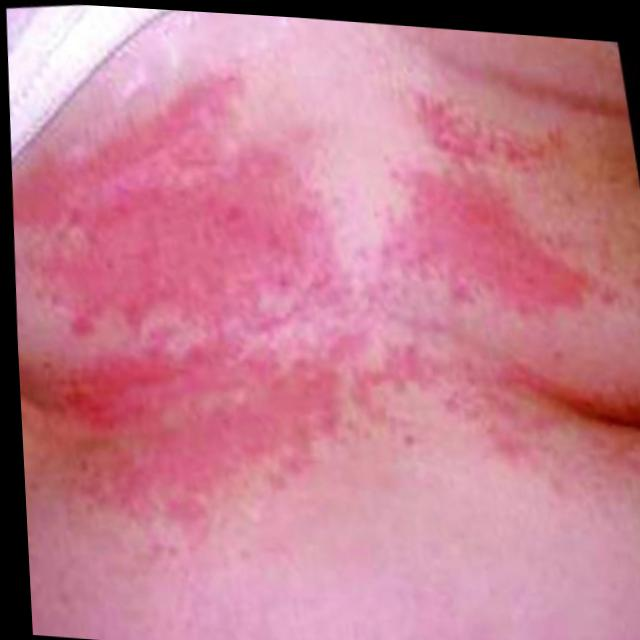Eczema: (11, 52, 594, 534)
